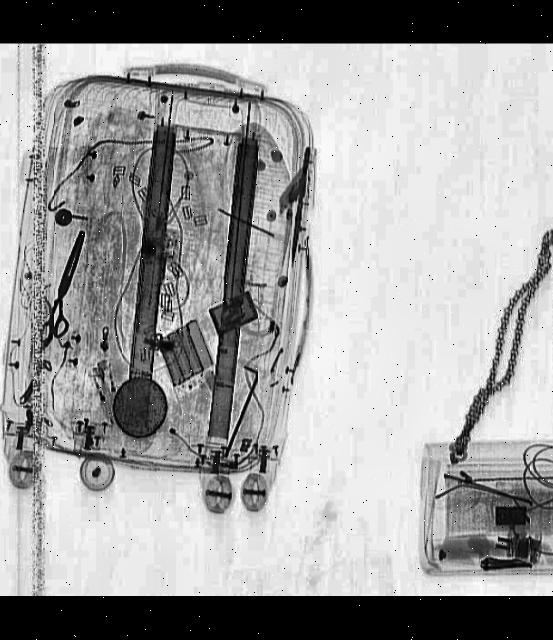Scissors: (34, 226, 94, 348)
